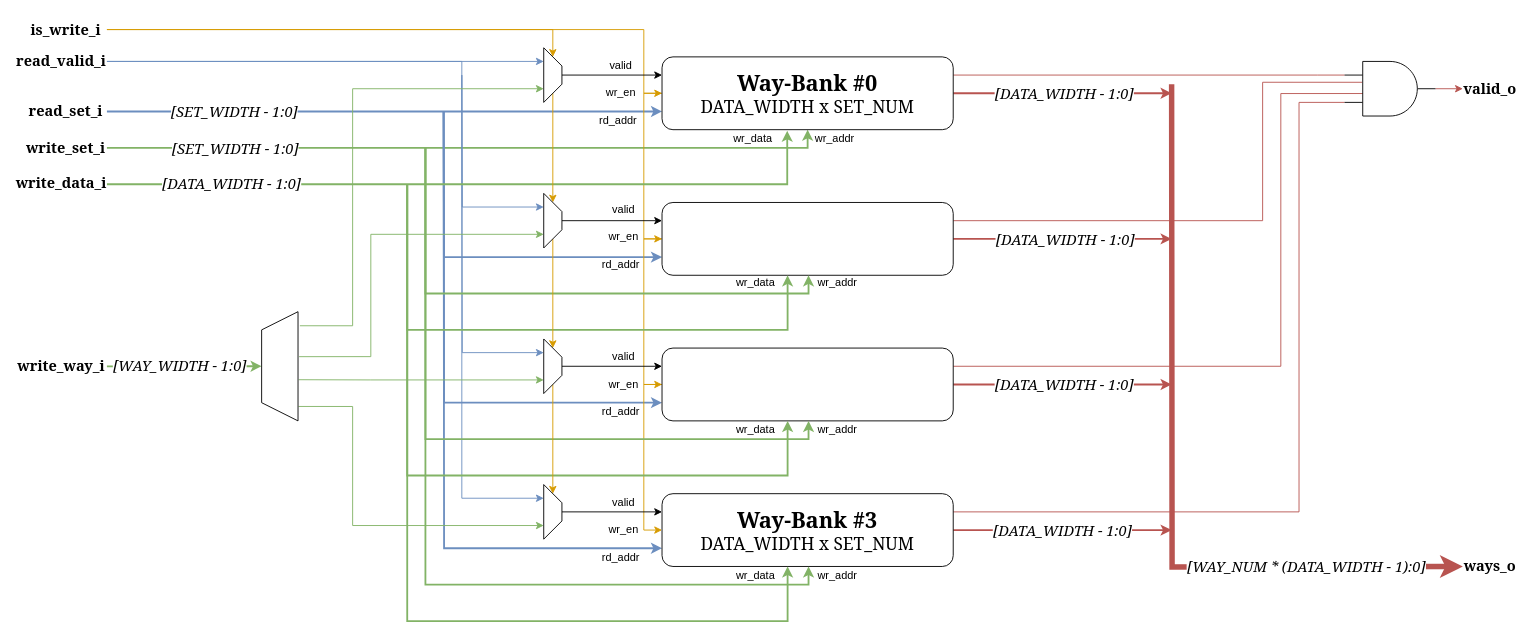
This 1532x644 diagram has some shape labels left out. The shapes that lost their labels are listed below. From the top down, each one's centre as x and y in pixels, then its label:
At (807,238): "Way-Bank #1 DATA_WIDTH x SET_NUM".
At (807,384): "Way-Bank #2 DATA_WIDTH x SET_NUM".
